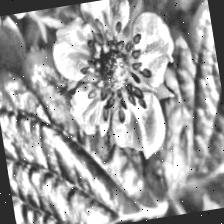Blossom Blight: (71, 10, 160, 130)
